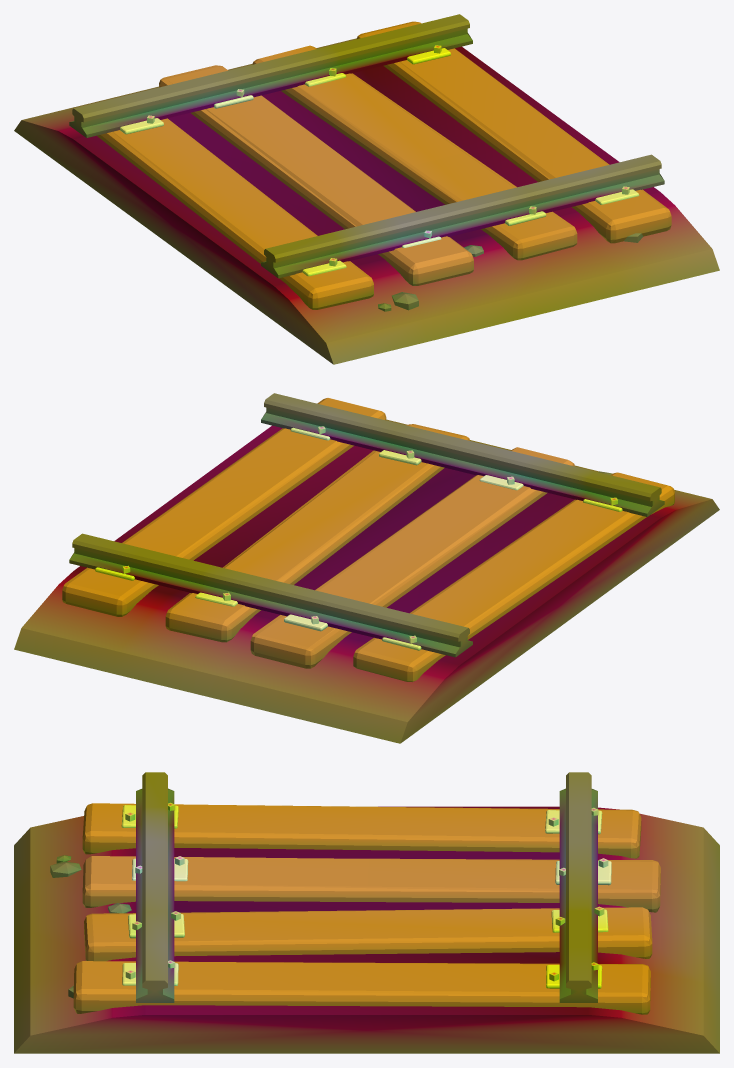
The model's file is Track_Straight_3m.fbx.
3 views of the same model, one above another, from view 1: azimuth 30°, elevation 25°; view 2: azimuth 150°, elevation 25°; view 3: azimuth 270°, elevation 25° (orthographic). The views are drawn at different scales.
Parts seen in each view (by area): view 1: Track_Straight_3m; view 2: Track_Straight_3m; view 3: Track_Straight_3m.
Part boxes in pixels (box(x1,y1,x2,y2)): Track_Straight_3m: box(14, 14, 719, 364); Track_Straight_3m: box(14, 393, 719, 743); Track_Straight_3m: box(14, 772, 719, 1053).
Size of the model in its own units: 3 by 0.49 by 4.3.
